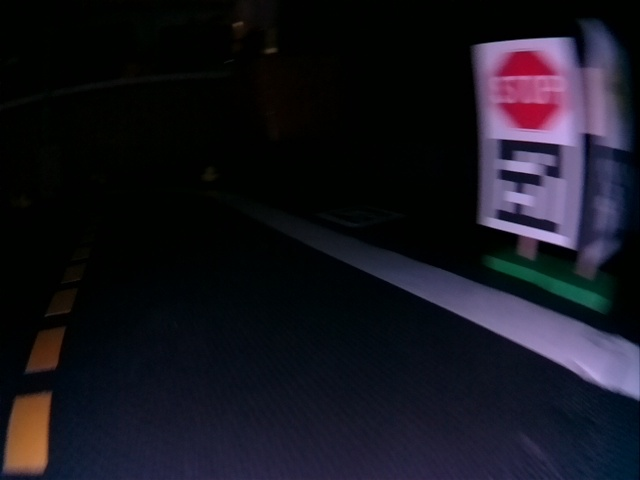QR code: (490, 137, 574, 233)
Stop sign: (482, 48, 575, 133)
